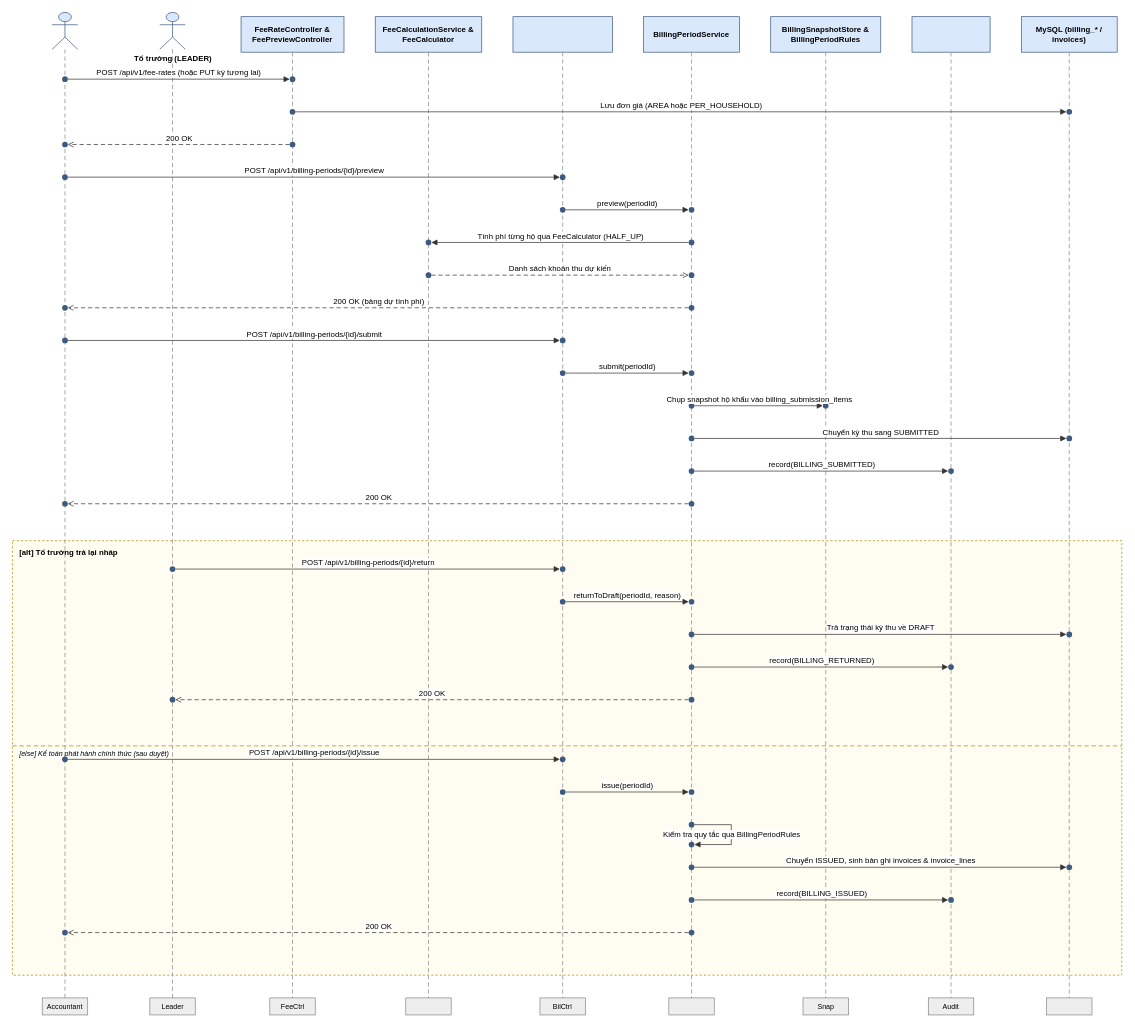
The diagram is 1135 pixels wide and 1027 high, and some of its shapes have lost their labels. Each missing label, with the centre of its shape:
"AuditService" belongs at point 950,34.
"BillingPeriodController" belongs at point 562,34.
"BilSvc" belongs at point 691,1006.
"DB" belongs at point 1069,1006.
"FeeCalc" belongs at point 428,1006.
"Kế toán (ACCOUNTANT)" belongs at point 64,30.
